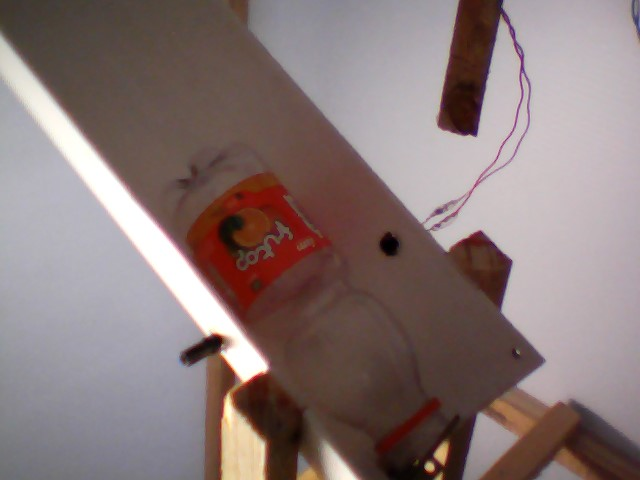plastico: (139, 135, 458, 475)
